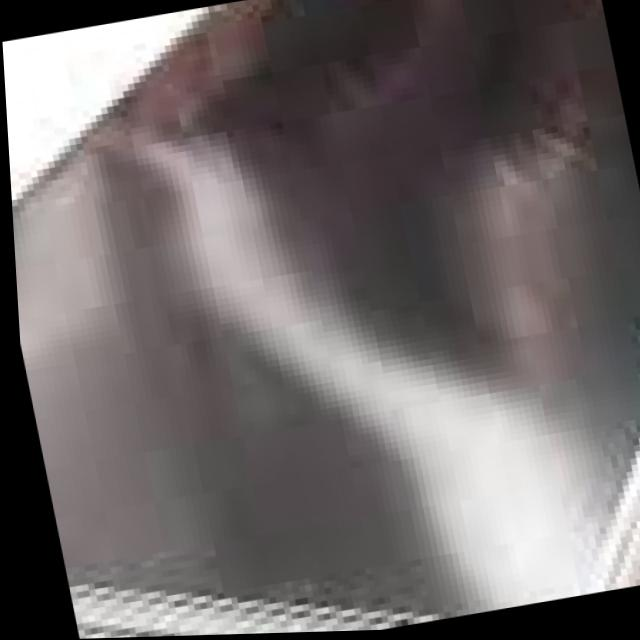metal-plates: (10, 1, 640, 640)
